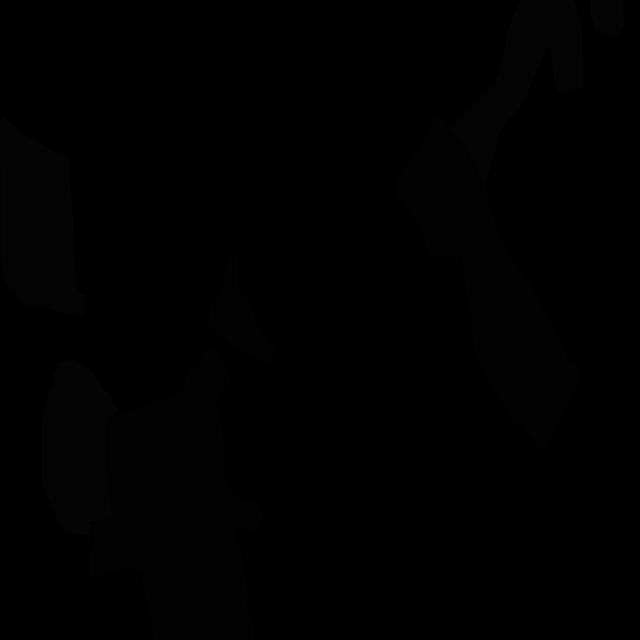cardboard: (393, 115, 582, 449), (89, 347, 263, 640), (207, 255, 276, 366)
soft_plastic: (450, 0, 584, 187), (0, 117, 86, 315), (41, 359, 120, 535), (590, 0, 624, 35)
